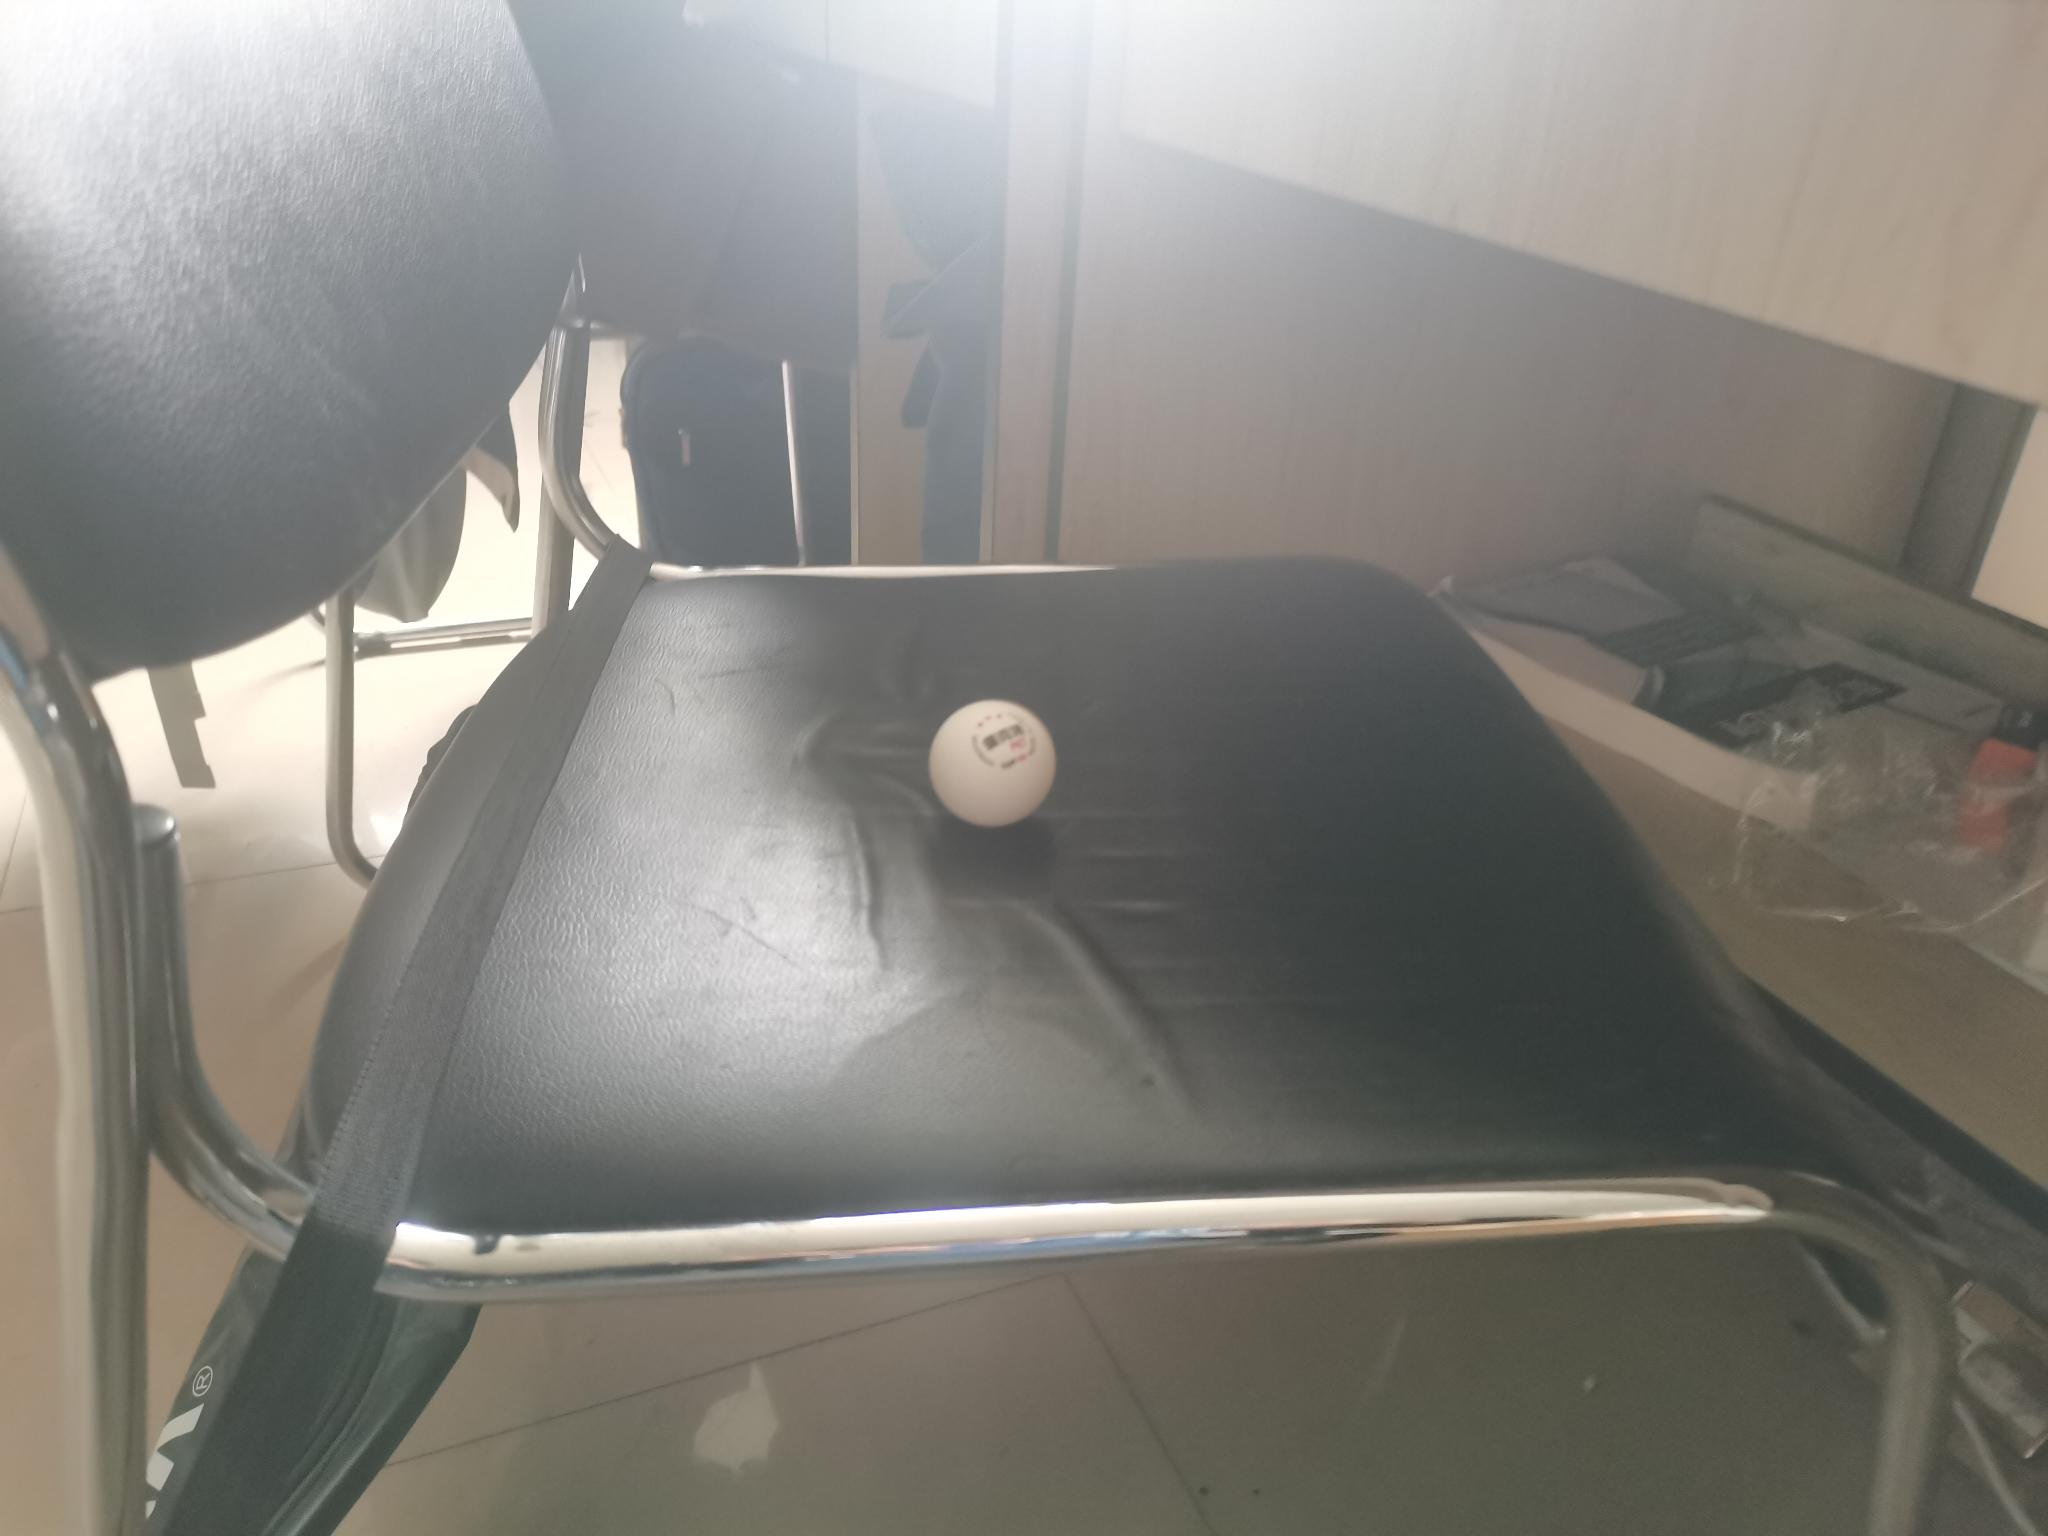ball: (926, 699, 1058, 828)
